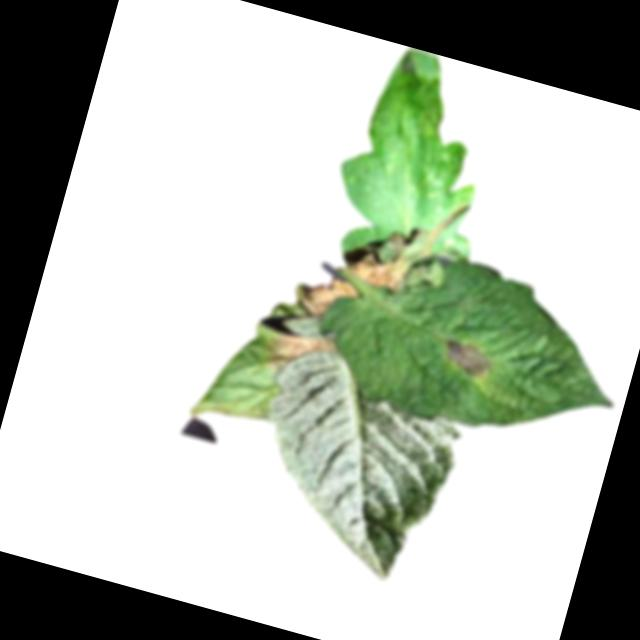Late_blight: (365, 41, 463, 153), (342, 221, 420, 297), (263, 326, 343, 389), (288, 264, 363, 328), (439, 335, 501, 385)
healthy: (230, 340, 476, 593)
